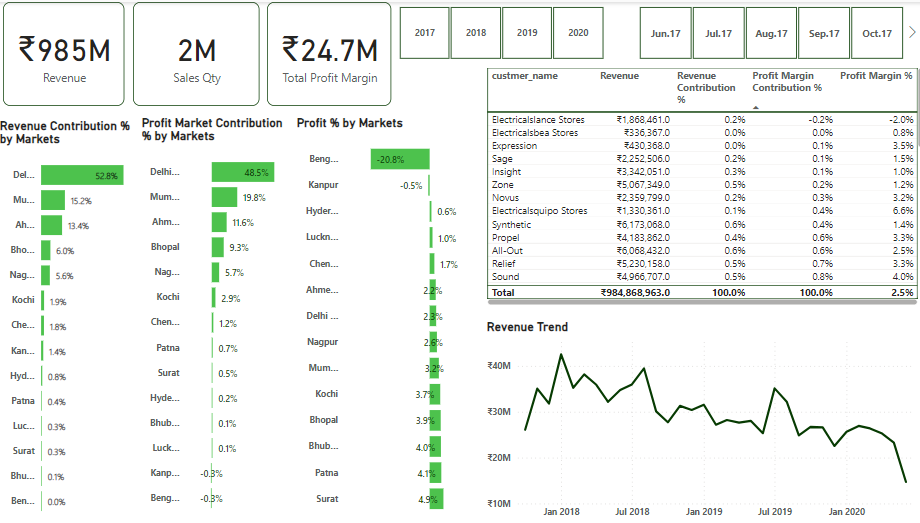

The dashboard page shown, as its layout file describes it:
{"tool":"powerbi","page":{"name":"Profit Analysis","canvas":[1281,720],"ordinal":1},"visuals":[{"type":"card","fields":{"Values":["BaseMeasures.Revenue"]},"box":[10.1,0,167,142.6],"z":0},{"type":"card","fields":{"Values":["BaseMeasures.Sales Qty"]},"box":[188.6,0,174.2,142.6],"z":1000},{"type":"barChart","title":"Revenue Contribution % by Markets","fields":{"Category":["markets.markets_name"],"Y":["BaseMeasures.Revenue Contribution %"]},"box":[0,159.8,195.8,560.2],"z":2000},{"type":"barChart","title":"Profit Market Contribution % by Markets","fields":{"Category":["markets.markets_name"],"Y":["BaseMeasures.Profit Margin Contribution %"]},"box":[195.8,155.5,213.1,560.2],"z":3000},{"type":"slicer","fields":{"Values":["date.year"]},"box":[529.9,0,329.8,85],"z":4000},{"type":"slicer","fields":{"Values":["date.cy_date"]},"box":[859.7,0,411.8,85],"z":5000},{"type":"tableEx","title":"Top 5 Customers","fields":{"Values":["customers.custmer_name","BaseMeasures.Revenue","BaseMeasures.Revenue Contribution %","BaseMeasures.Profit Margin Contribution %","BaseMeasures.Profit Margin %"]},"box":[669.6,85,612,337],"z":6000},{"type":"lineChart","title":"Revenue Trend","fields":{"Y":["BaseMeasures.Revenue"],"Category":["date.cy_date"]},"box":[669.6,436.3,612,283.7],"z":7000},{"type":"card","fields":{"Values":["BaseMeasures.Total Profit Margin"]},"box":[373,0,171.4,142.6],"z":8000},{"type":"barChart","title":"Profit % by Markets","fields":{"Category":["markets.markets_name"],"Y":["BaseMeasures.Profit %"]},"box":[409,155.5,231.8,561.6],"z":9000}]}

Visuals, with their boxes in screenshot pixels (x1, y1, x2, y2), scaled from the page's 1281x720 canvas onto the 920x523 screenshot:
card - BaseMeasures.Revenue: (7, 0, 127, 104)
card - BaseMeasures.Sales Qty: (135, 0, 261, 104)
"Revenue Contribution % by Markets" barChart: (0, 116, 141, 522)
"Profit Market Contribution % by Markets" barChart: (141, 113, 294, 520)
slicer - date.year: (381, 0, 617, 62)
slicer - date.cy_date: (617, 0, 913, 62)
"Top 5 Customers" tableEx: (481, 62, 919, 307)
"Revenue Trend" lineChart: (481, 317, 919, 522)
card - BaseMeasures.Total Profit Margin: (268, 0, 391, 104)
"Profit % by Markets" barChart: (294, 113, 460, 521)
